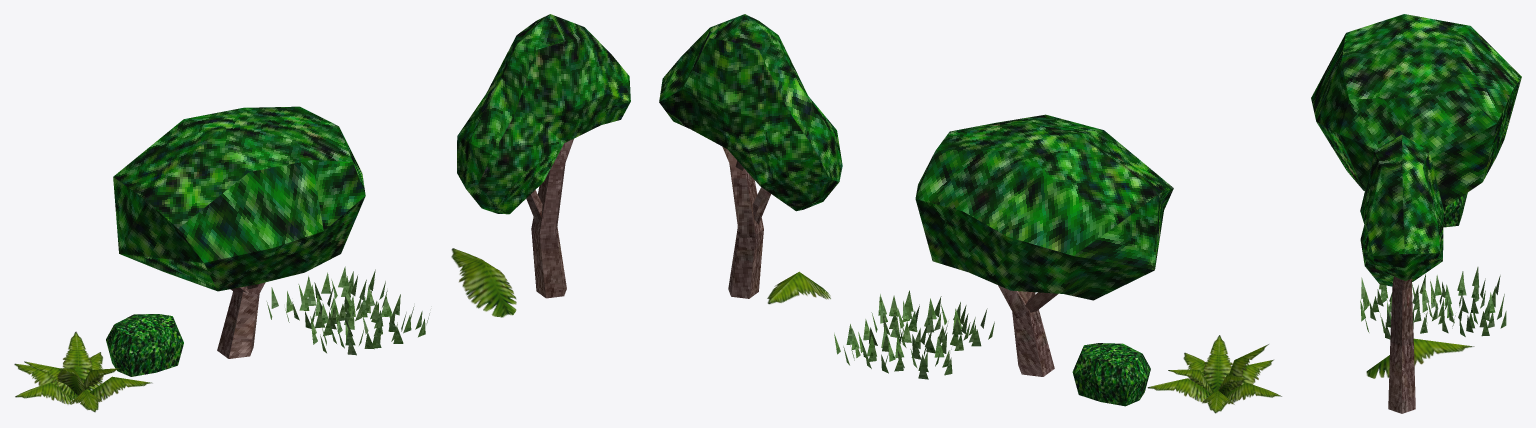
File: nature-pack-ps1-half-life-style.glb
3 renders of one model, left to right at view 1: azimuth 30°, elevation 25°; view 2: azimuth 150°, elevation 25°; view 3: azimuth 270°, elevation 25°, orthographic. The views are drawn at different scales.
Visible parts, largest first — view 1: Cube.011, Cube.001, Cube.008, Cube.006, Cube.010, Cube.012; view 2: Cube.011, Cube.001, Cube.008, Cube.006, Cube.010, Cube.012; view 3: Cube.011, Cube.001, Cube.008, Cube.012, Cube.010.
Boxes of the visible parts, box(x1,y1,x2,y2) form: Cube.011: box(113, 106, 365, 358); Cube.001: box(457, 14, 630, 298); Cube.008: box(266, 266, 429, 355); Cube.006: box(14, 331, 152, 412); Cube.010: box(106, 314, 183, 376); Cube.012: box(451, 248, 516, 317); Cube.011: box(915, 114, 1173, 376); Cube.001: box(659, 14, 842, 298); Cube.008: box(834, 290, 994, 379); Cube.006: box(1147, 335, 1281, 413); Cube.010: box(1072, 343, 1150, 406); Cube.012: box(767, 271, 830, 304); Cube.011: box(1311, 14, 1521, 208); Cube.001: box(1360, 134, 1443, 413); Cube.008: box(1360, 267, 1506, 339); Cube.012: box(1366, 338, 1474, 378); Cube.010: box(1443, 192, 1467, 227).
Size of what is drawn, in the model's own units: 15.18 by 6.55 by 4.61.
4 materials, 4 textured.
